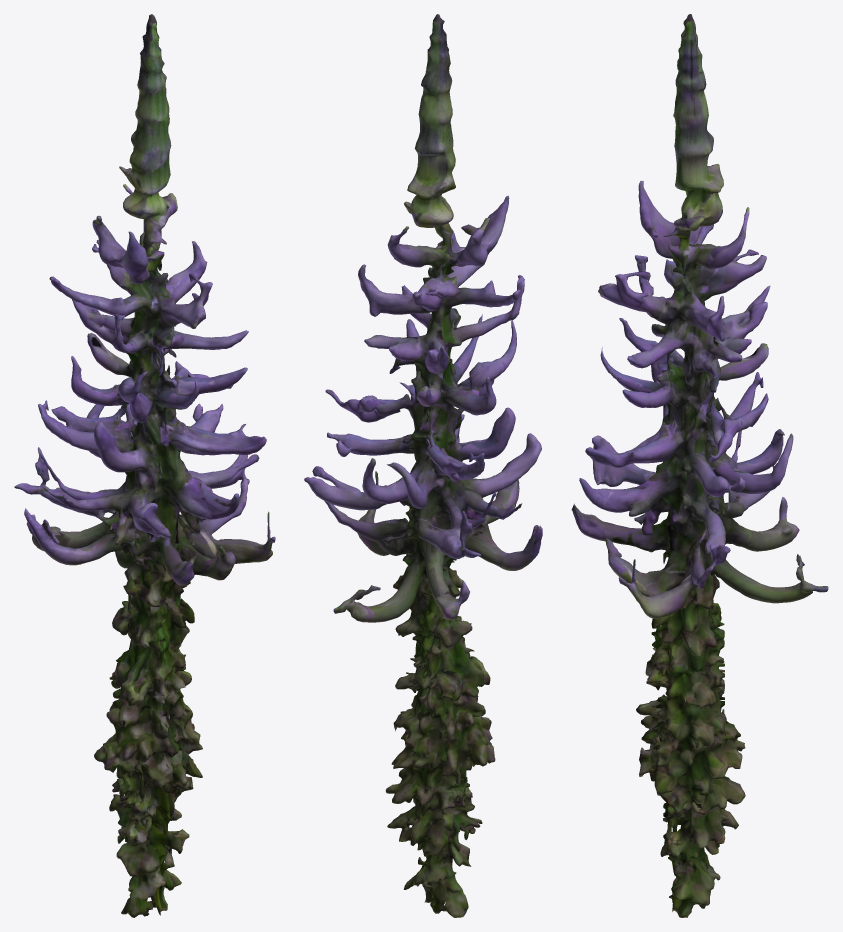
The model's file is malvariscoflor.glb.
3 views of the same model, side by side, from view 1: azimuth 30°, elevation 25°; view 2: azimuth 150°, elevation 25°; view 3: azimuth 270°, elevation 25° (orthographic).
Bounding box in the file's own units: 0.3901 × 1.43 × 0.3717.
1 material, 1 textured.
